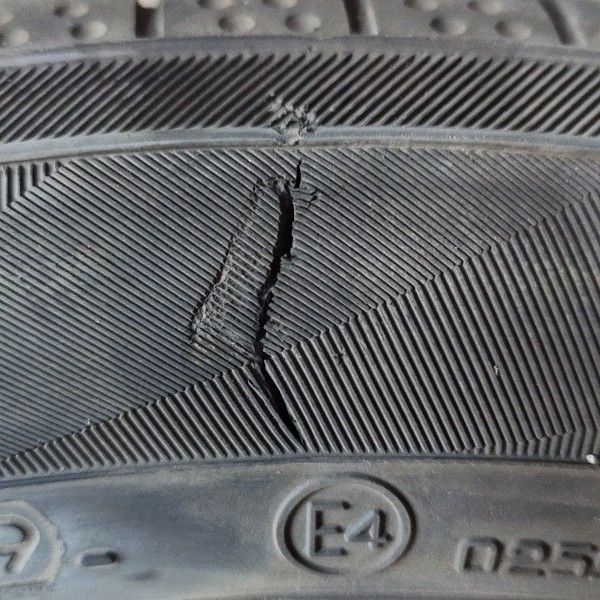cut: (188, 154, 308, 455), (261, 85, 321, 149)
